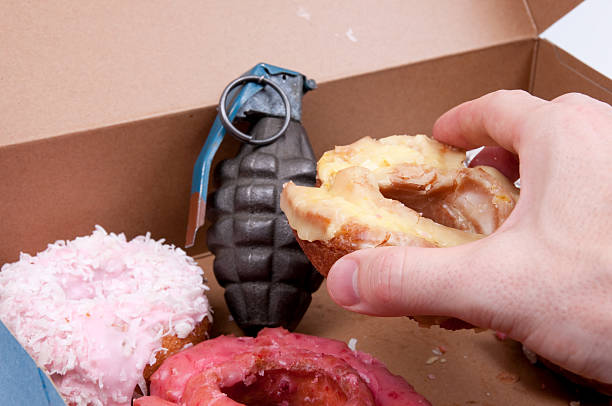e1: (188, 63, 326, 335)
